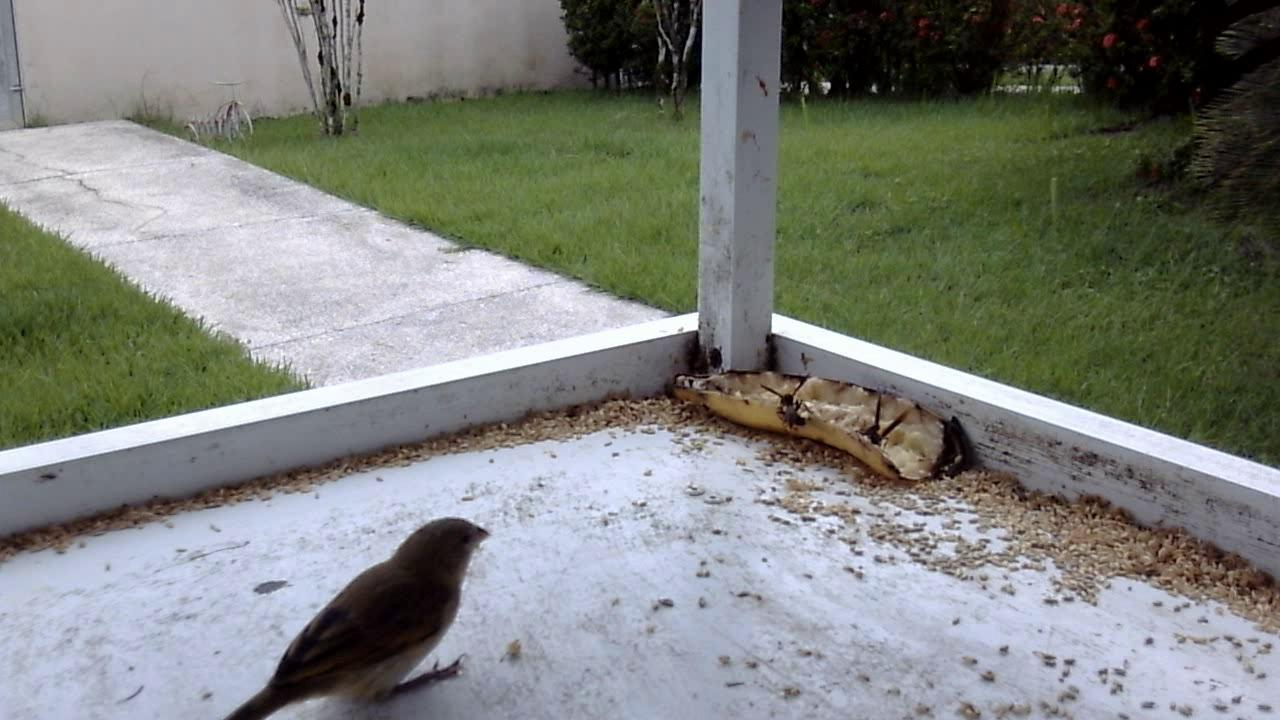canario_do_amazonas: (209, 510, 496, 715)
